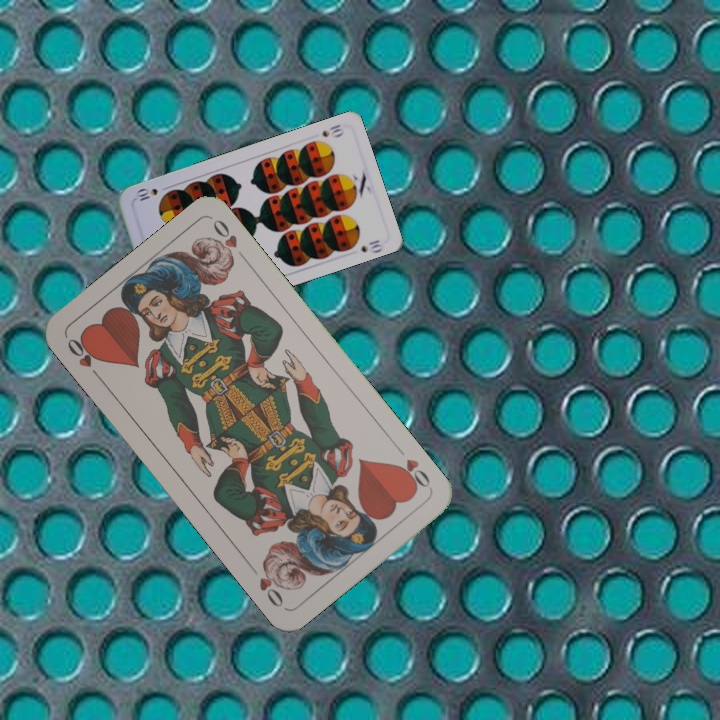HO: (63, 332, 105, 384), (391, 454, 433, 493)
S10: (317, 120, 346, 140)
